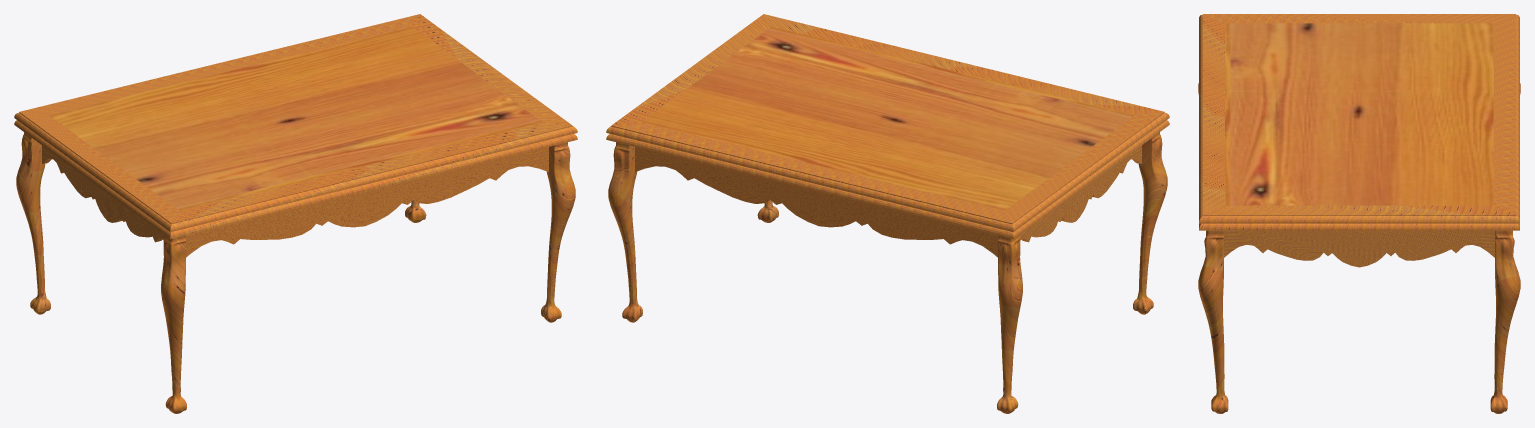
The model's file is Table 2.fbx.
The picture shows the model from 3 angles, left to right: view 1: azimuth 30°, elevation 25°; view 2: azimuth 150°, elevation 25°; view 3: azimuth 270°, elevation 25°; orthographic projection. The views are drawn at different scales.
Visible parts, largest first — view 1: Generic_Solid, Extrude_Along_Path, Group_2, Extrude_3, Extrude_2; view 2: Generic_Solid, Extrude_Along_Path, Group_2, Extrude_4, Extrude_2; view 3: Generic_Solid, Extrude_Along_Path, Extrude, Group_2.
Part boxes in pixels (x1,y1,x2,y2): Generic_Solid: (49, 26, 542, 210); Extrude_Along_Path: (14, 14, 577, 238); Group_2: (16, 132, 575, 413); Extrude_3: (185, 147, 548, 257); Extrude_2: (42, 145, 163, 242); Generic_Solid: (641, 26, 1134, 210); Extrude_Along_Path: (606, 14, 1169, 238); Group_2: (608, 132, 1167, 413); Extrude_4: (635, 147, 998, 257); Extrude_2: (1020, 145, 1141, 242); Generic_Solid: (1225, 23, 1493, 205); Extrude_Along_Path: (1199, 14, 1519, 230); Extrude: (1224, 230, 1494, 267); Group_2: (1198, 83, 1520, 413).
Bounding box in the file's own units: 1645 × 759 × 1086.
1 material, 1 textured.
